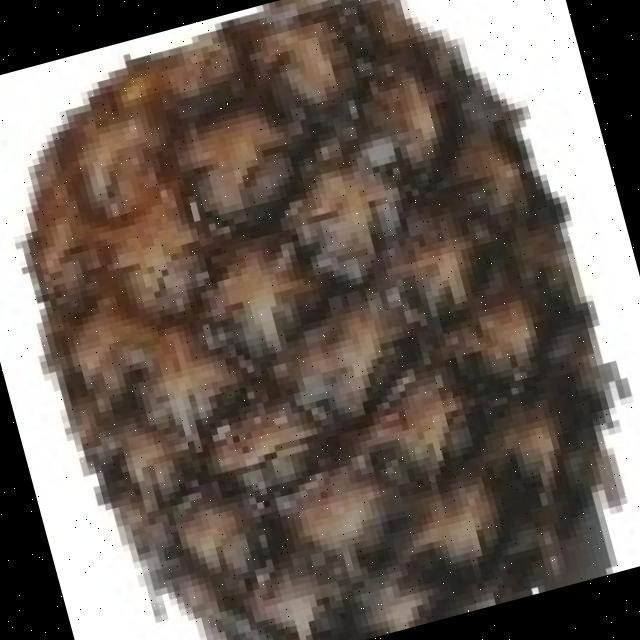pineapple: (25, 0, 613, 640)
